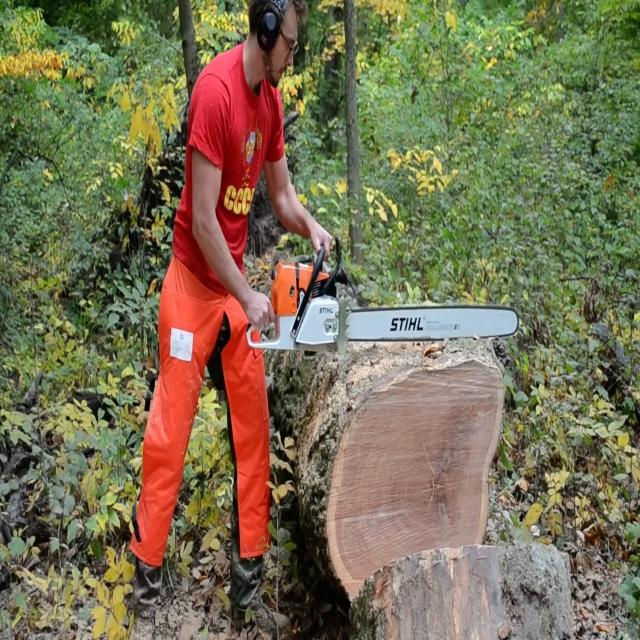Chainsaw: (235, 237, 537, 379)
